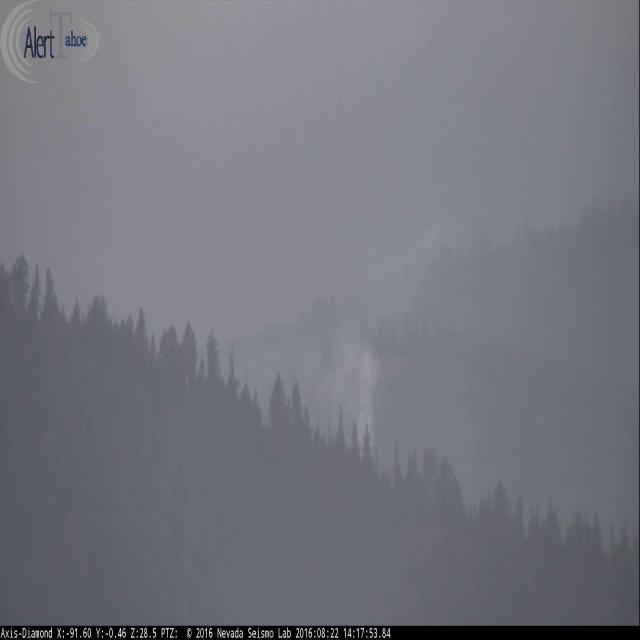smoke: (304, 216, 452, 462)
